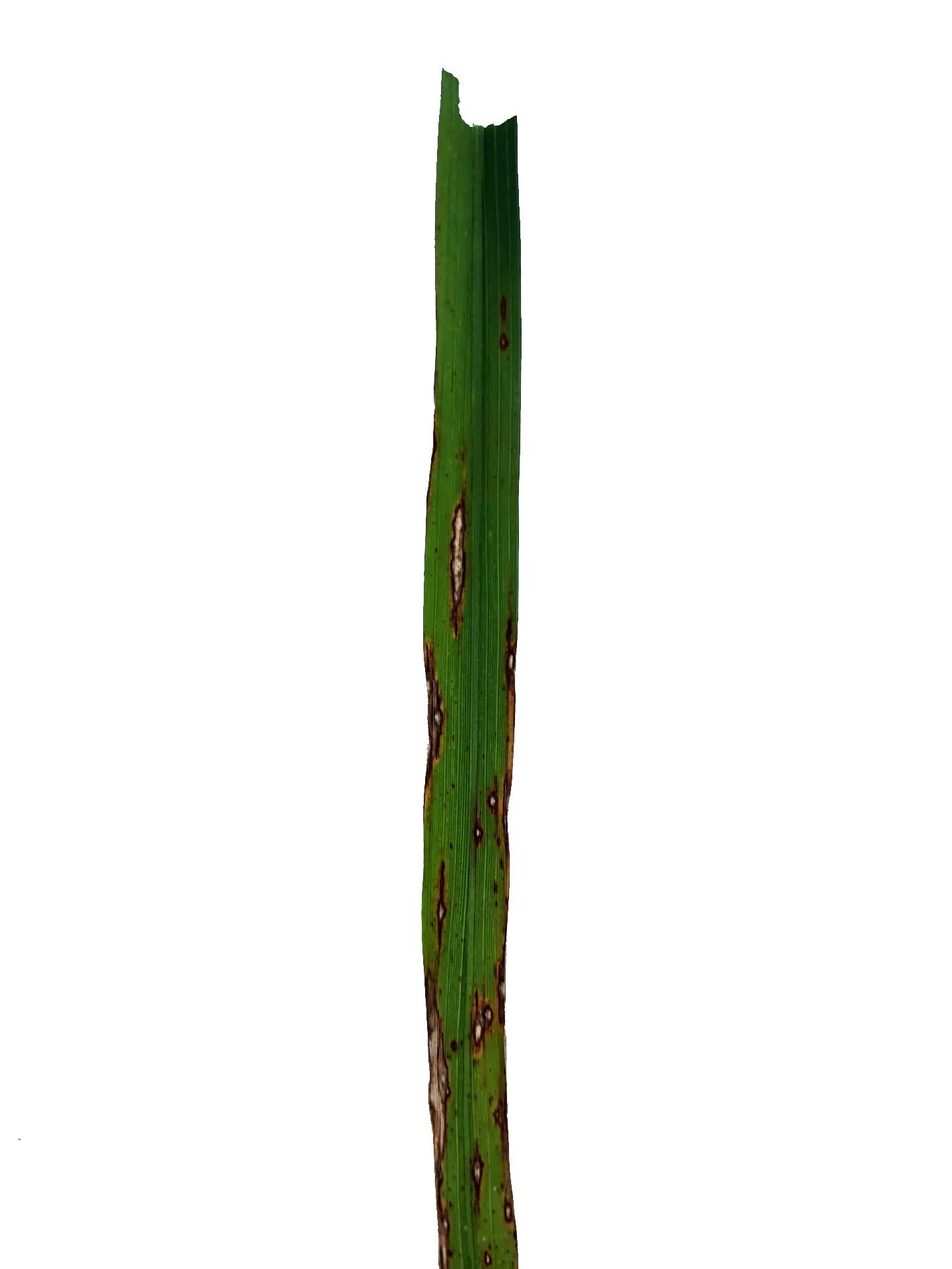Rice blast: (428, 985, 463, 1172), (444, 473, 474, 637), (425, 637, 450, 796), (425, 862, 458, 963), (468, 987, 498, 1065), (497, 614, 518, 725), (467, 1135, 486, 1225), (463, 808, 495, 856), (436, 1198, 455, 1269), (481, 776, 504, 825), (498, 286, 510, 362), (502, 1188, 512, 1231), (483, 1248, 497, 1269)
